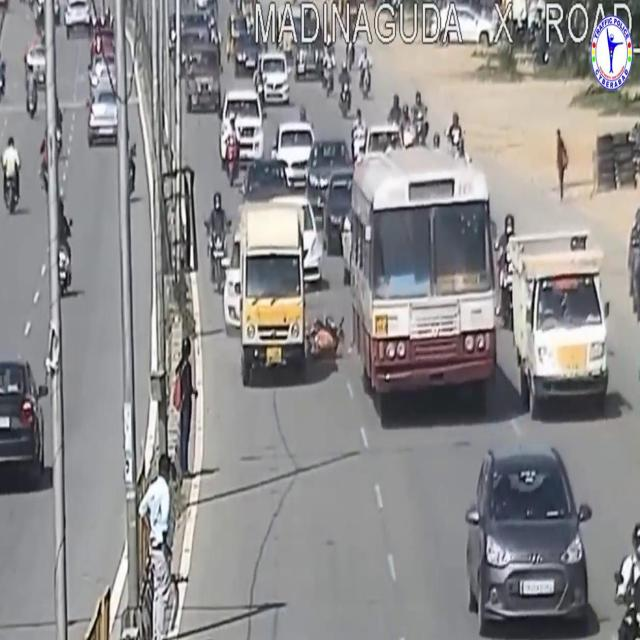accident: (226, 139, 347, 425)
non_accident: (171, 22, 309, 182), (58, 0, 119, 169)
